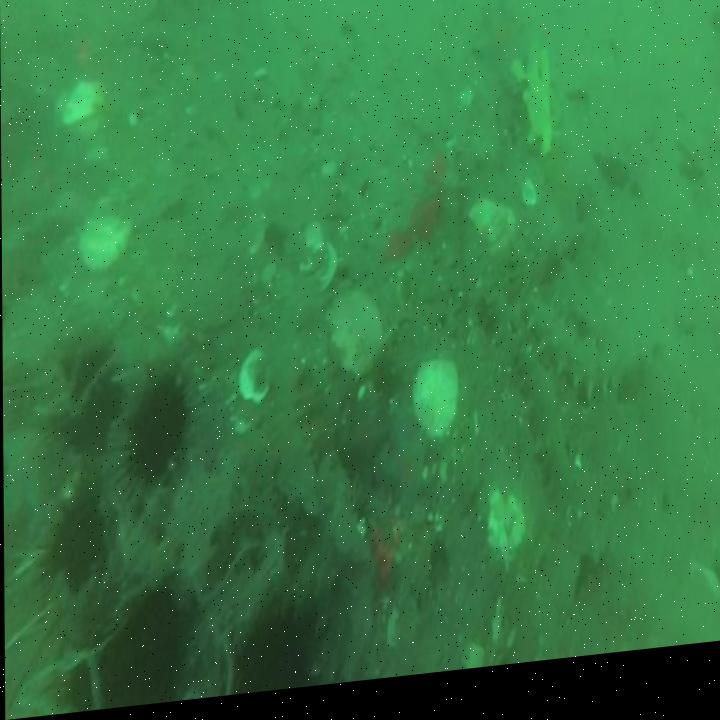echinus: (80, 598, 179, 713), (224, 611, 310, 701), (58, 350, 125, 455), (128, 377, 188, 483), (43, 512, 104, 594)
holothurian: (524, 293, 615, 413), (512, 359, 574, 524)
scallop: (325, 296, 383, 388), (77, 202, 130, 278), (413, 362, 459, 448), (484, 495, 525, 580)
starfish: (384, 443, 429, 520)
